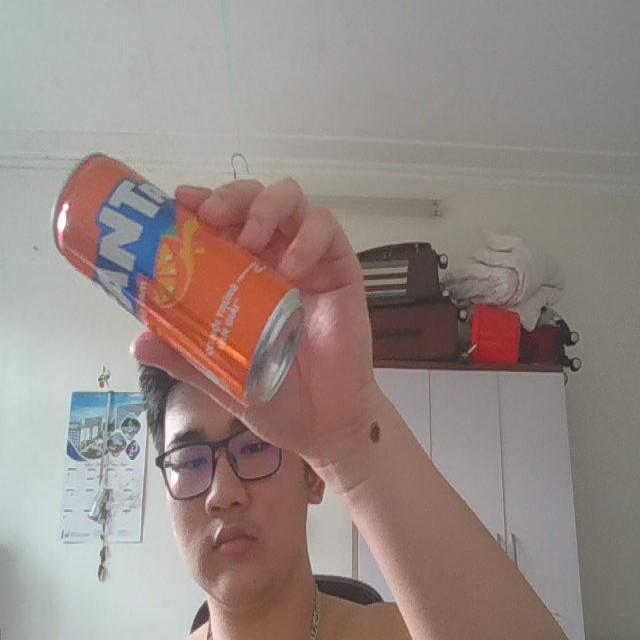Fanta: (52, 144, 304, 405)
